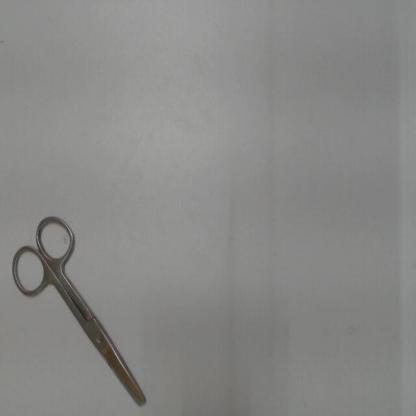Dressing Scissors: (3, 202, 154, 413)
